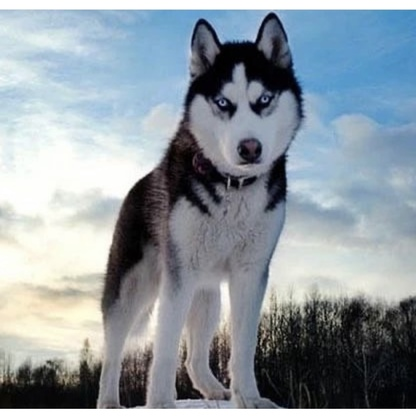husky: (84, 10, 307, 408)
